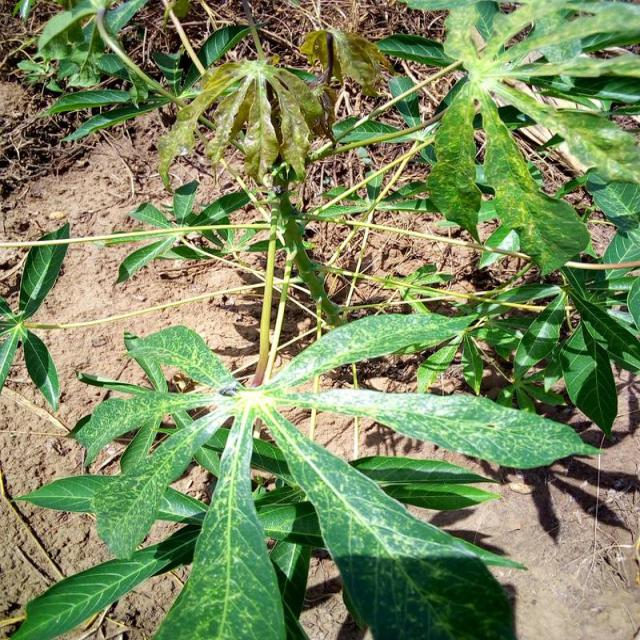cassava leaf: (11, 309, 602, 638), (255, 401, 522, 638)
